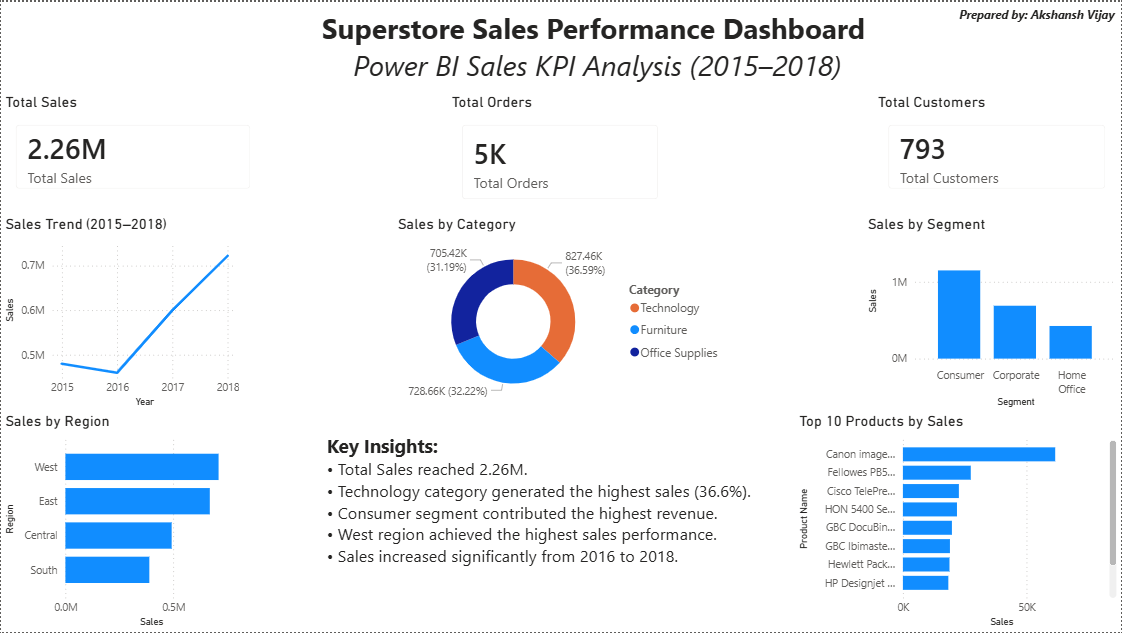

What the dashboard file says about the page in this screenshot:
{"tool":"powerbi","page":{"name":"Page 1","canvas":[1280,720],"ordinal":0},"visuals":[{"type":"cardVisual","title":"Total Orders","fields":{"Data":["train.Total Orders"]},"box":[510,104.3,258.6,138.6],"z":0},{"type":"cardVisual","title":"Total Customers","fields":{"Data":["train.Total Customers"]},"box":[997.1,104.3,282.9,127.1],"z":1000},{"type":"lineChart","title":"Sales Trend (2015–2018)","fields":{"Y":["Sum(train.Sales)"],"Category":["train.Order Date.Variation.Date Hierarchy.Year","train.Order Date.Variation.Date Hierarchy.Quarter","train.Order Date.Variation.Date Hierarchy.Month","train.Order Date.Variation.Date Hierarchy.Day"]},"box":[0,242.9,277.1,225.7],"z":2000},{"type":"clusteredBarChart","title":"Sales by Region","fields":{"Category":["train.Region"],"Y":["Sum(train.Sales)"]},"box":[0,468.6,290,251.4],"z":3000},{"type":"cardVisual","title":"Total Sales","fields":{"Data":["Sum(train.Sales)"]},"box":[0,104.3,302.9,127.1],"z":4000},{"type":"donutChart","title":"Sales by Category","fields":{"Category":["train.Category"],"Y":["Sum(train.Sales)"]},"box":[448.6,242.9,384.3,225.7],"z":5000},{"type":"clusteredColumnChart","title":"Sales by Segment","fields":{"Category":["train.Segment"],"Y":["Sum(train.Sales)"]},"box":[985.7,242.9,294.3,225.7],"z":6000},{"type":"clusteredBarChart","title":"Top 10 Products by Sales","fields":{"Category":["train.Product Name"],"Y":["Sum(train.Sales)"]},"box":[907.1,468.6,372.9,251.4],"z":7000},{"type":"textbox","box":[334.3,2.9,685.7,101.4],"z":9000},{"type":"textbox","box":[367.1,487.1,511.4,212.9],"z":10000},{"type":"textbox","box":[1090,0,190,32.9],"z":10001}]}

Visuals, with their boxes in screenshot pixels (x1, y1, x2, y2), scaled from the page's 1280x720 canvas onto the 1122x633 screenshot:
"Total Orders" cardVisual: rect(447, 92, 674, 214)
"Total Customers" cardVisual: rect(874, 92, 1121, 203)
"Sales Trend (2015–2018)" lineChart: rect(0, 214, 243, 412)
"Sales by Region" clusteredBarChart: rect(0, 412, 254, 632)
"Total Sales" cardVisual: rect(0, 92, 266, 203)
"Sales by Category" donutChart: rect(393, 214, 730, 412)
"Sales by Segment" clusteredColumnChart: rect(864, 214, 1121, 412)
"Top 10 Products by Sales" clusteredBarChart: rect(795, 412, 1121, 632)
textbox: rect(293, 3, 894, 92)
textbox: rect(322, 428, 770, 615)
textbox: rect(955, 0, 1121, 29)
